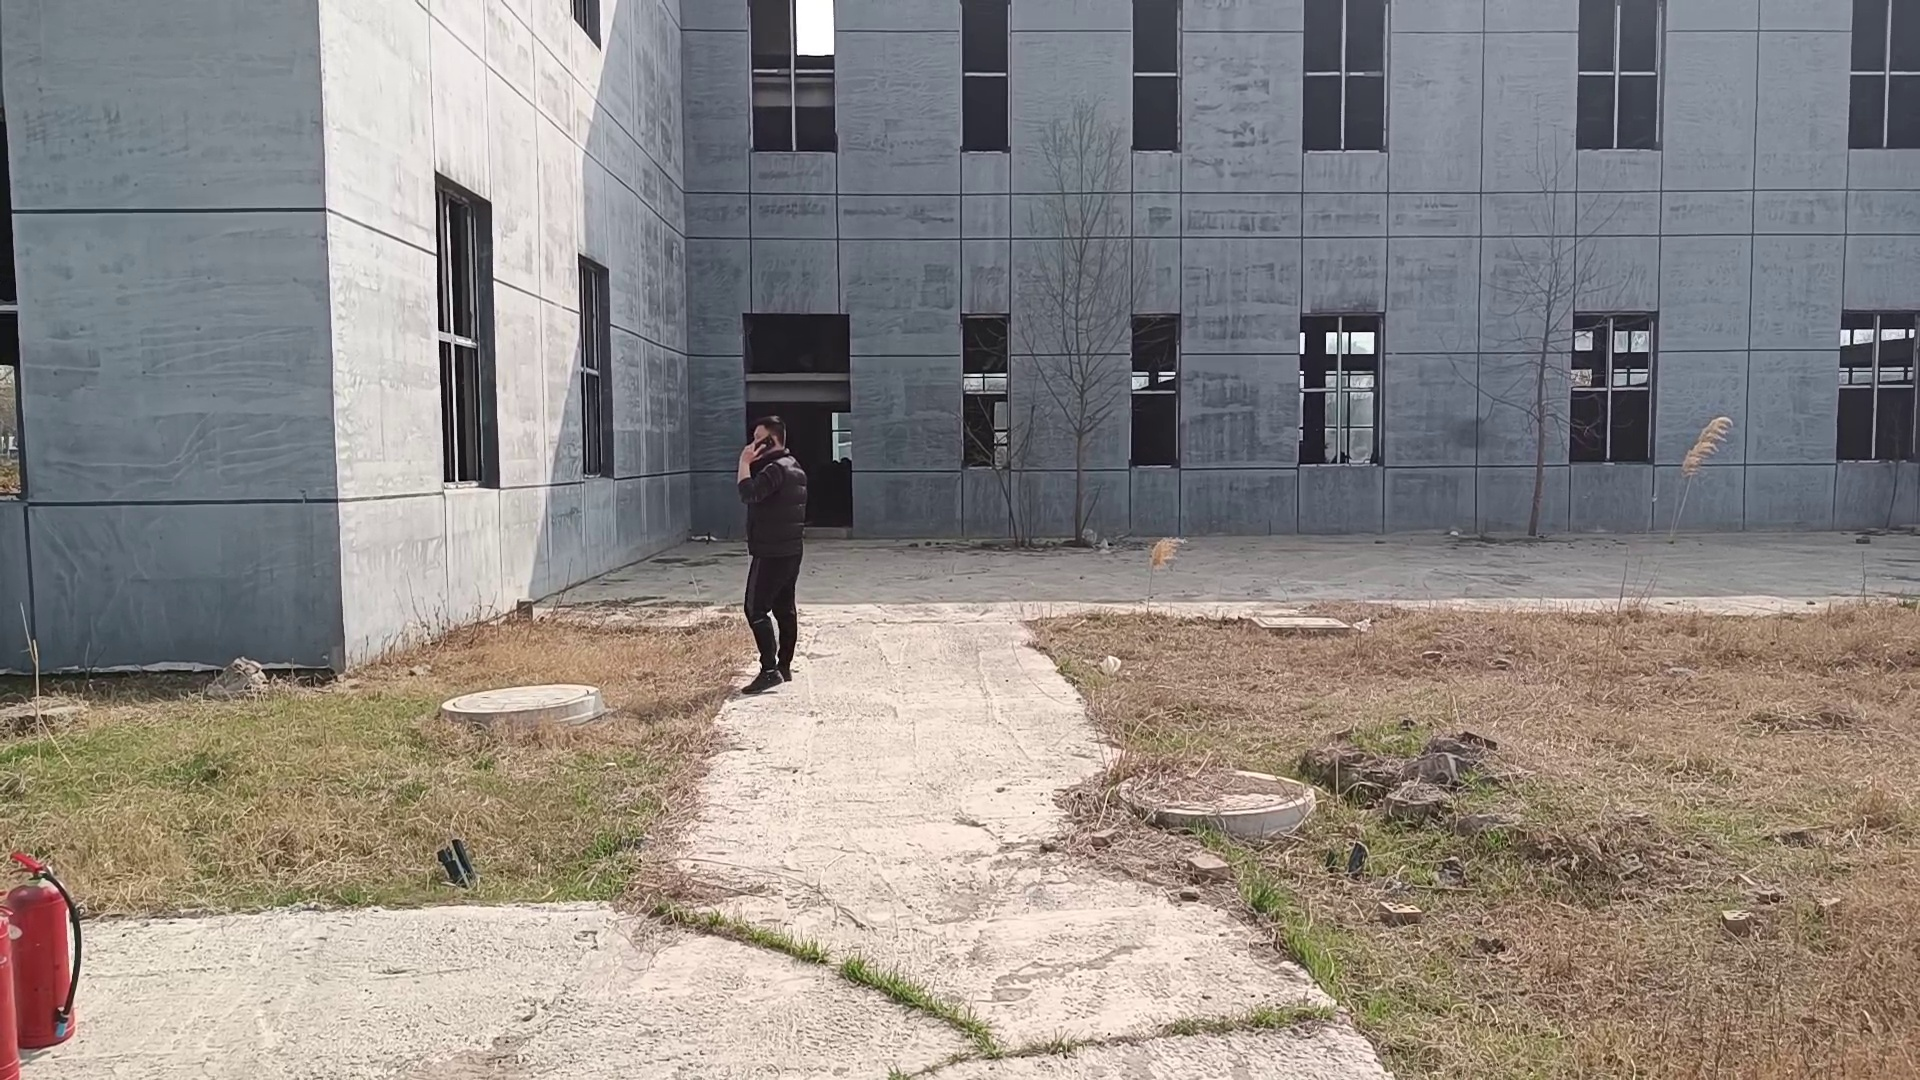phone: (746, 411, 793, 465)
